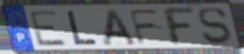A: (102, 8, 139, 48)
E: (27, 9, 70, 47)
F: (159, 6, 197, 47), (127, 8, 162, 46)
L: (65, 10, 99, 46)
S: (196, 7, 233, 46)
